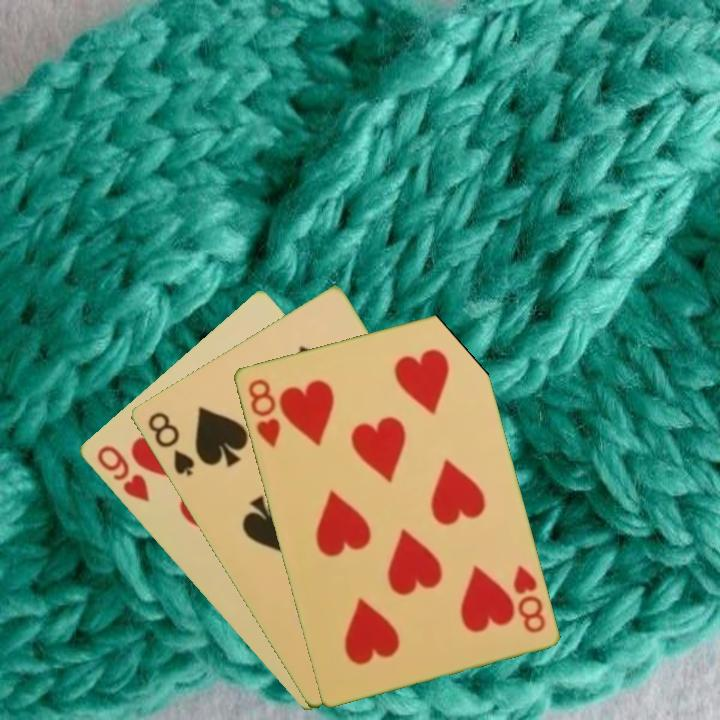8h: (243, 375, 283, 450), (508, 562, 548, 636)
8s: (143, 408, 197, 479)
9h: (92, 441, 152, 505)
